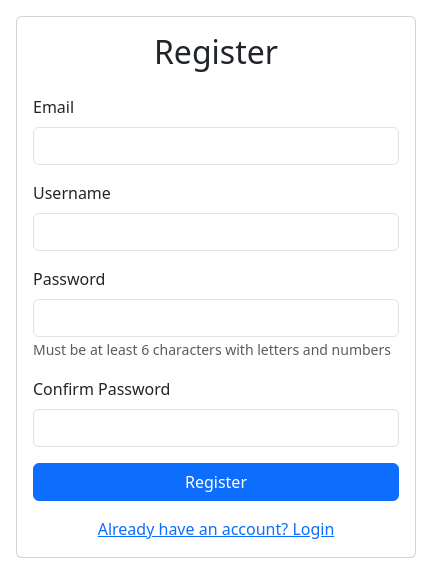
Test: Register Component › shows loading state during registration
Type "test@example.com" into the field labelled "Email" at (216, 146), box [33,127,399,165]
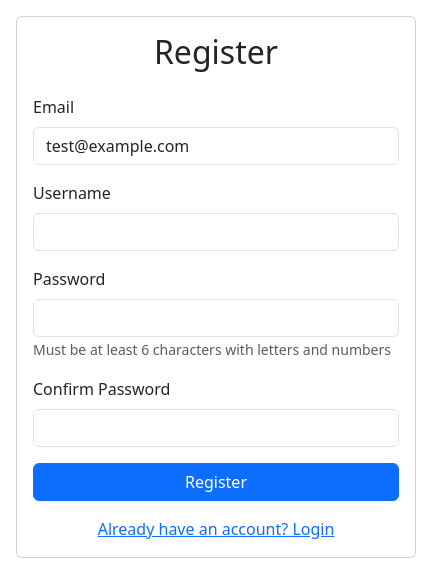
Type "testuser" into the field labelled "Username" at (216, 232), box [33,213,399,251]
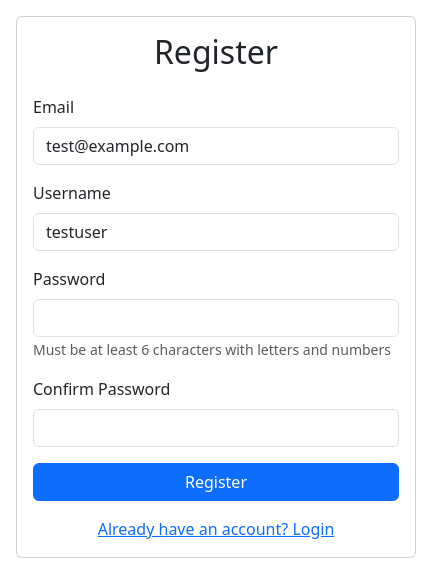
Type "password123" into the password field labelled "Password" at (216, 318), box [33,299,399,337]
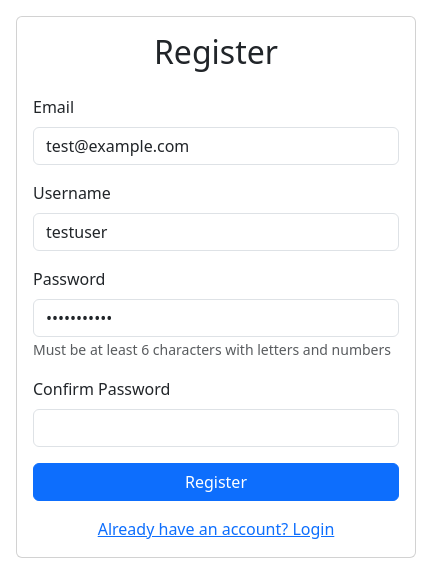
Type "password123" into the password field labelled "Confirm Password" at (216, 428), box [33,409,399,447]
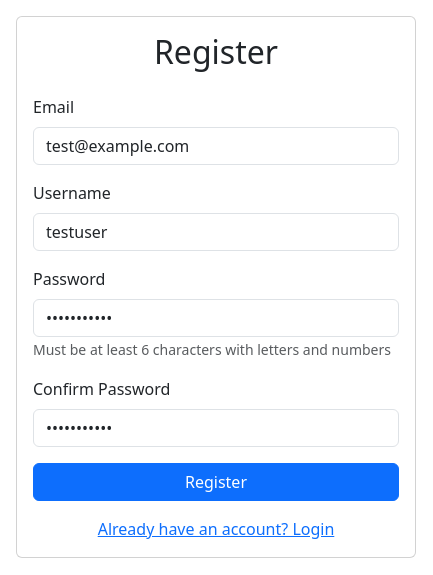
Click the button "Register" at (216, 482), box [33,463,399,501]
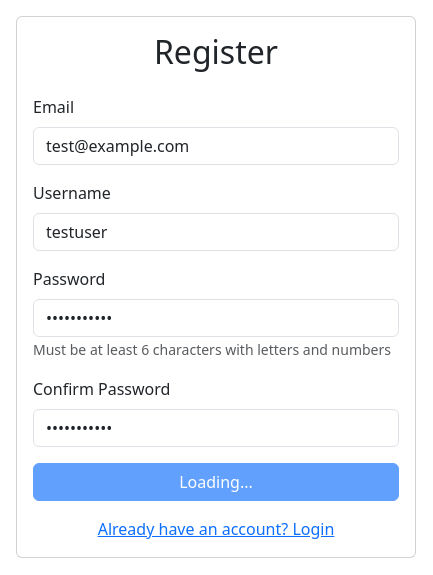
Expected: the button "Loading..." is disabled, [33,463,399,501]
